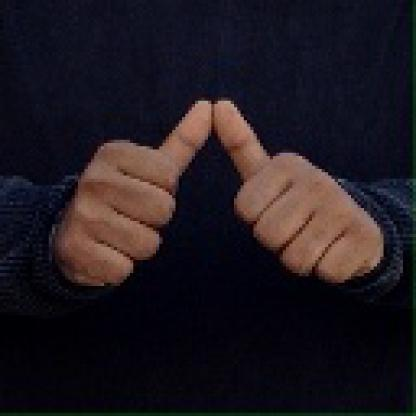A: (53, 101, 378, 292)
